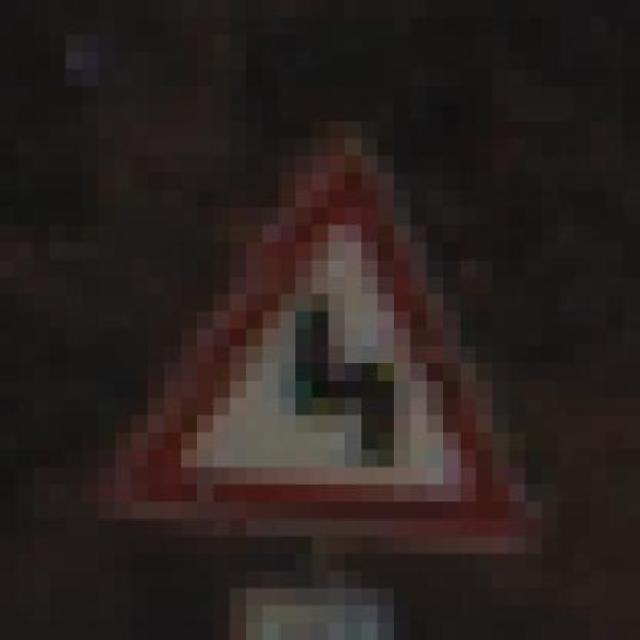Left Zig Zag Traffic: (99, 86, 558, 571)
